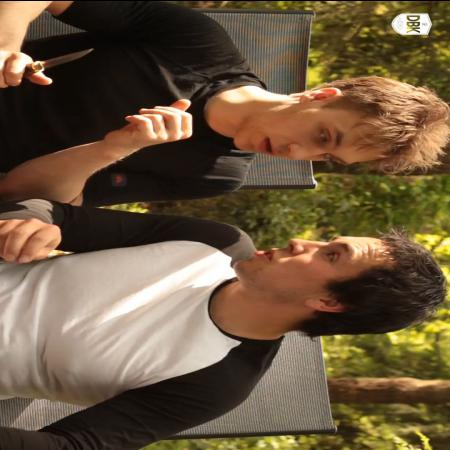long weapon: (0, 40, 107, 90)
